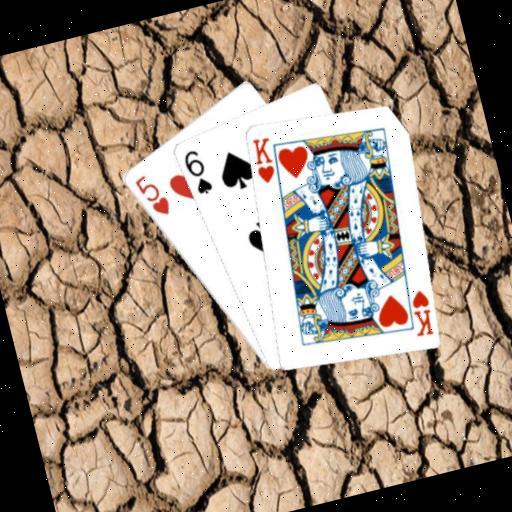5H: (130, 168, 173, 223)
6S: (178, 144, 215, 199)
KH: (403, 285, 439, 340), (246, 133, 281, 187)
